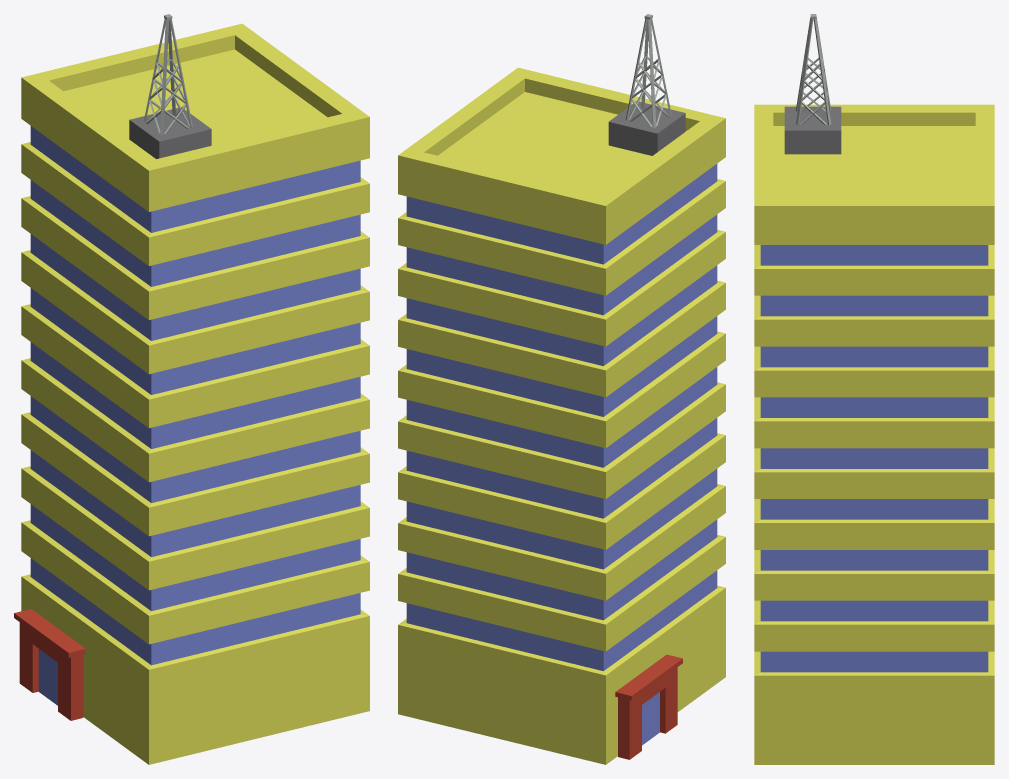
File: Target_Building_3.fbx
3 views of the same model, side by side, from view 1: azimuth 30°, elevation 25°; view 2: azimuth 150°, elevation 25°; view 3: azimuth 270°, elevation 25° (orthographic). The views are drawn at different scales.
Parts seen in each view (by area): view 1: Building_3; view 2: Building_3; view 3: Building_3.
Boxes of the visible parts, <box> form: Building_3: <box>14,14,369,764</box>; Building_3: <box>398,14,725,764</box>; Building_3: <box>754,14,994,764</box>.
Bounding box in the file's own units: 110 × 316 × 102.
